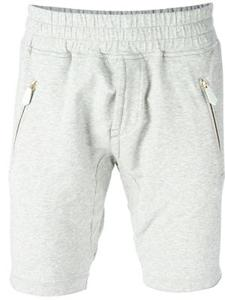C_W_pants: (1, 2, 224, 300)
